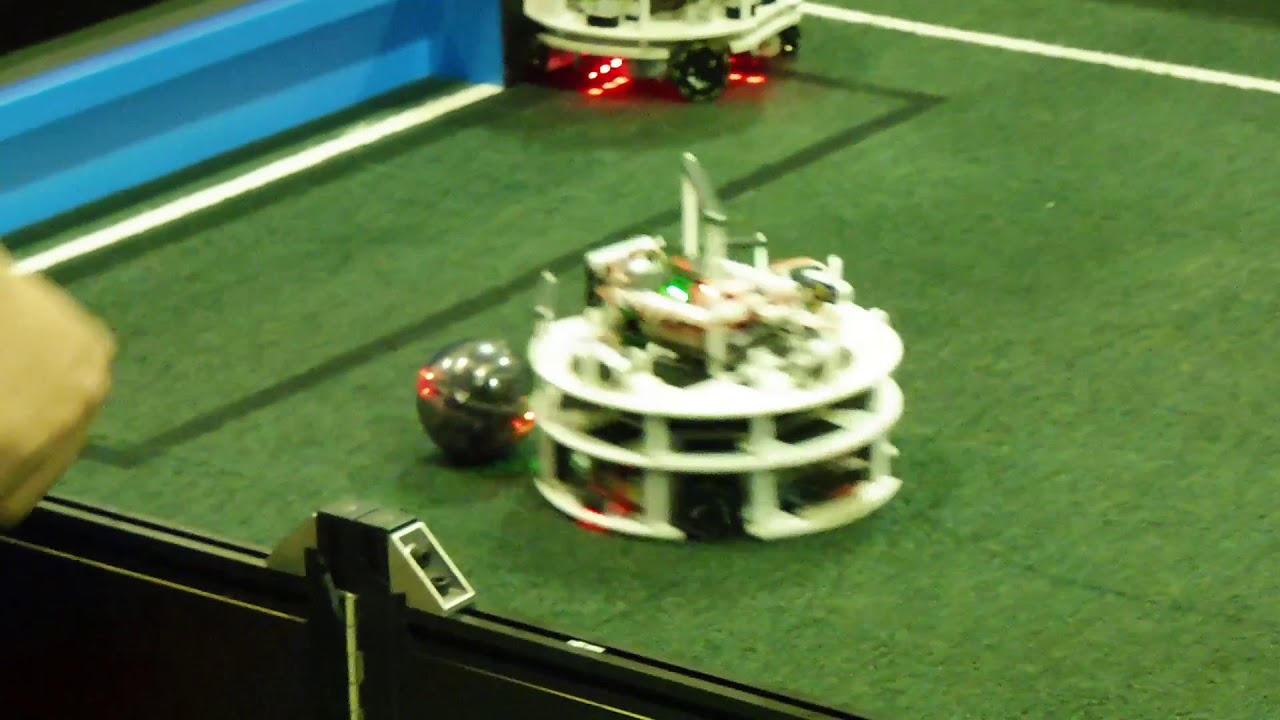Goal: (1, 1, 499, 228)
Robot: (520, 169, 932, 554), (513, 1, 829, 100)
